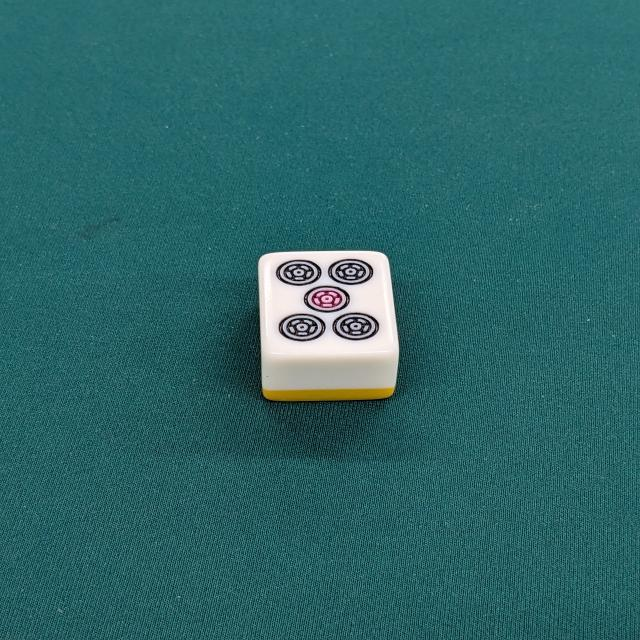5p: (257, 250, 401, 405)
